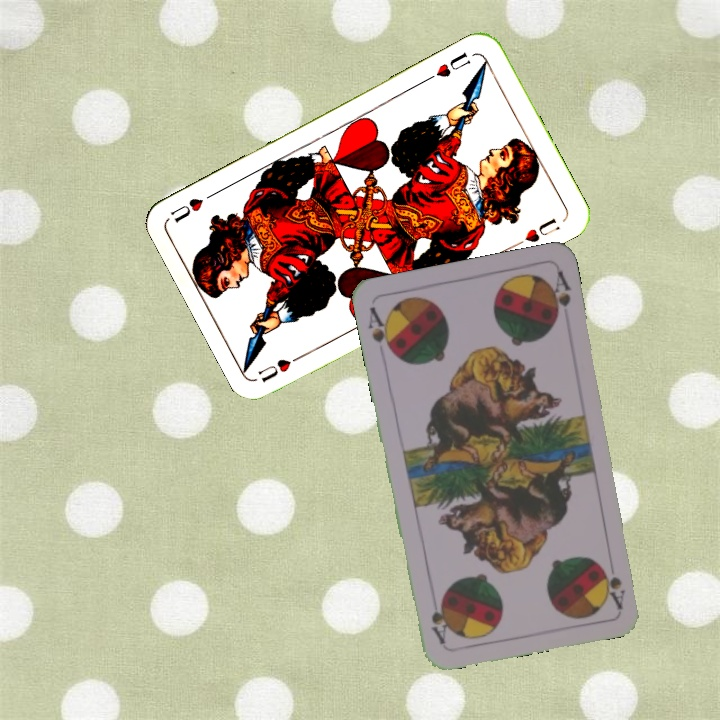HU: (254, 349, 309, 385), (423, 47, 474, 83)
SA: (364, 302, 397, 359), (601, 565, 628, 611)
